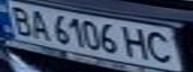0: (78, 18, 103, 51)
1: (63, 16, 84, 47)
6: (96, 21, 121, 55), (48, 12, 72, 45)
A: (24, 8, 54, 41)
B: (3, 3, 39, 36)
C: (142, 29, 181, 64)
H: (121, 25, 151, 61)
